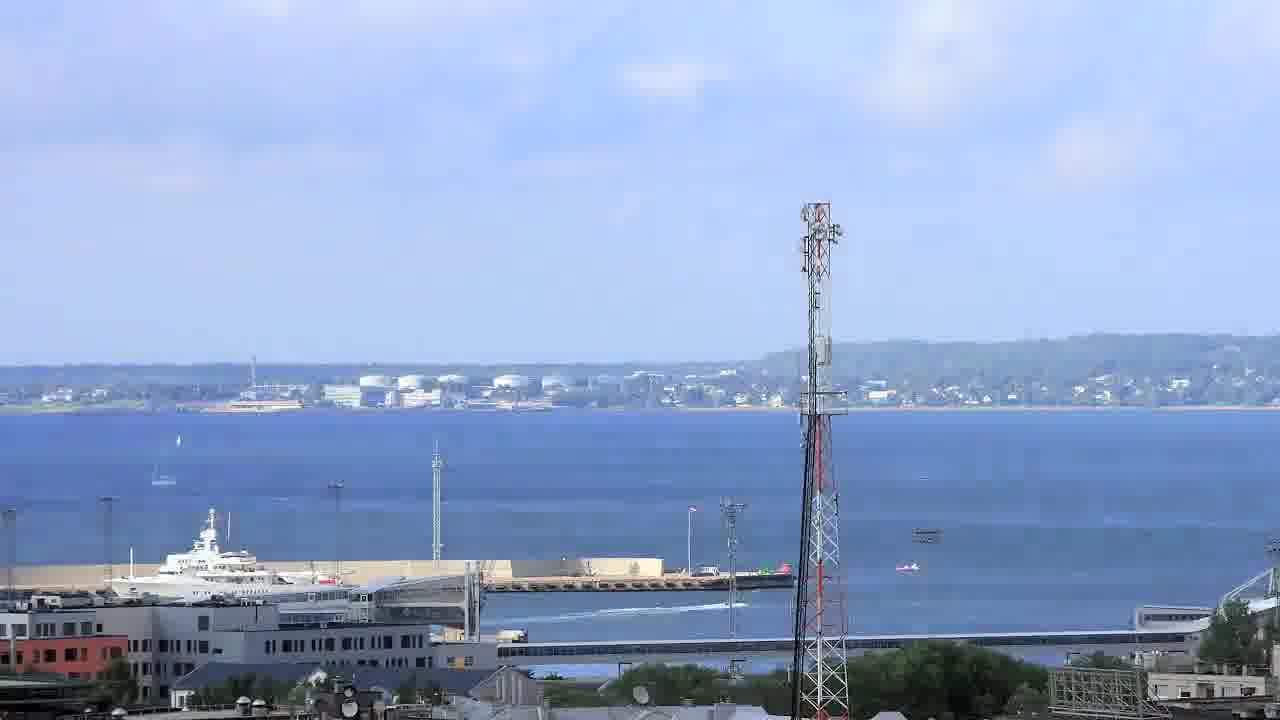type-2: (145, 434, 185, 501)
type-3: (96, 508, 381, 605)
type-4: (705, 570, 763, 615), (889, 542, 942, 586)
